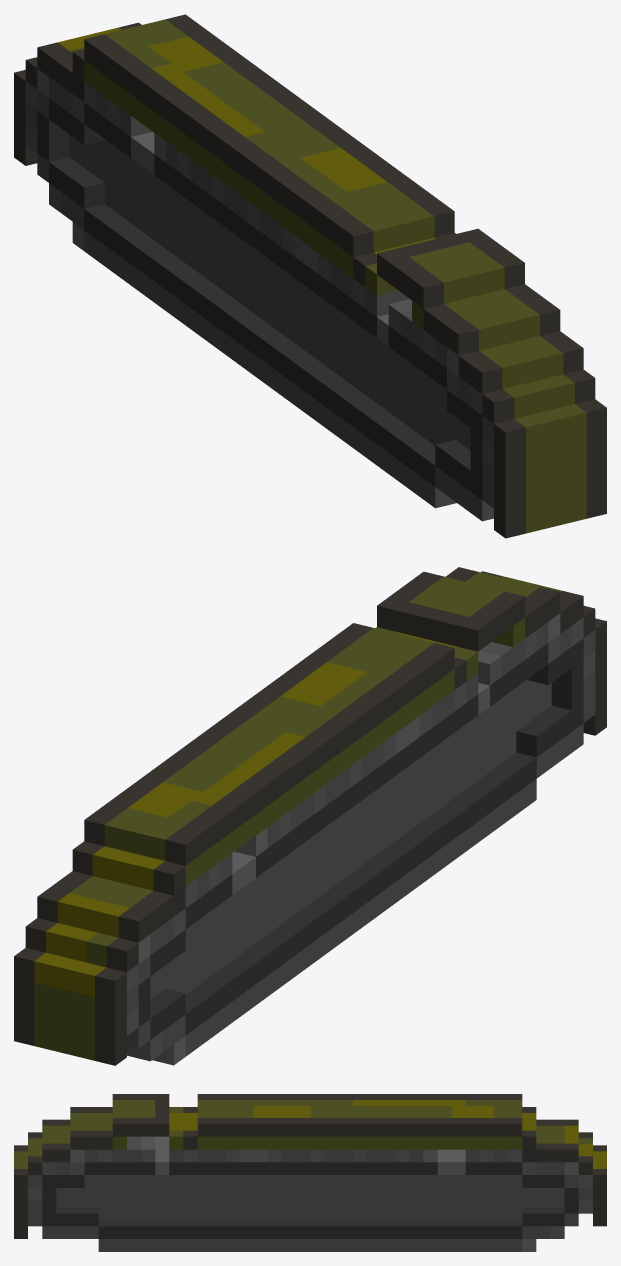
The model's file is firsttank-21.obj.
3 renders of one model, top to bottom at view 1: azimuth 30°, elevation 25°; view 2: azimuth 150°, elevation 25°; view 3: azimuth 270°, elevation 25°, orthographic. The views are drawn at different scales.
Size of the model in its own units: 0.5 by 1 by 4.2.
Materials: 1 (1 with a texture image).
